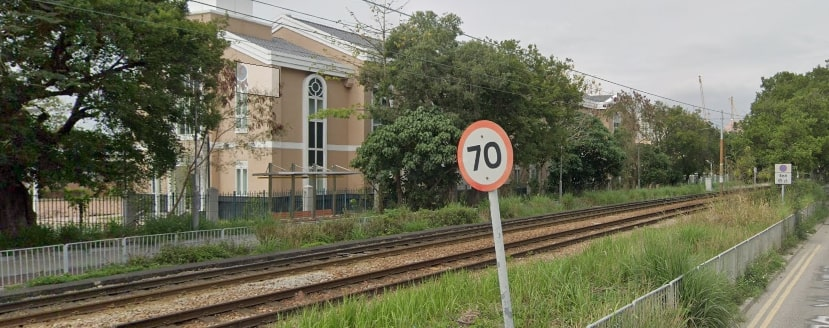Speed Limit: (459, 113, 510, 198)
